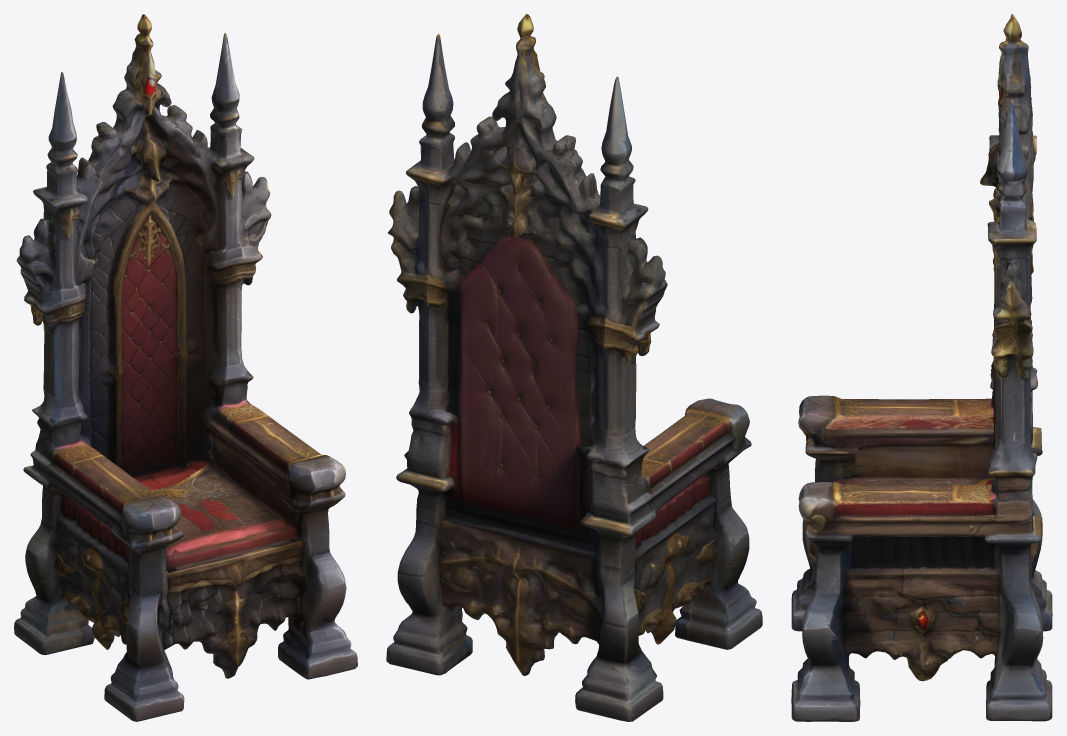
The model's file is throne.glb.
3 renders of one model, left to right at view 1: azimuth 30°, elevation 25°; view 2: azimuth 150°, elevation 25°; view 3: azimuth 270°, elevation 25°, orthographic. The views are drawn at different scales.
Parts seen in each view (by area): view 1: Mesh_0; view 2: Mesh_0; view 3: Mesh_0.
Boxes of the visible parts, bbox=[...] form: Mesh_0: bbox=[14, 14, 357, 721]; Mesh_0: bbox=[386, 14, 762, 721]; Mesh_0: bbox=[791, 14, 1052, 721].
Size of the model in its own units: 0.8599 by 1.99 by 0.7285.
Materials: 1 (1 with a texture image).
